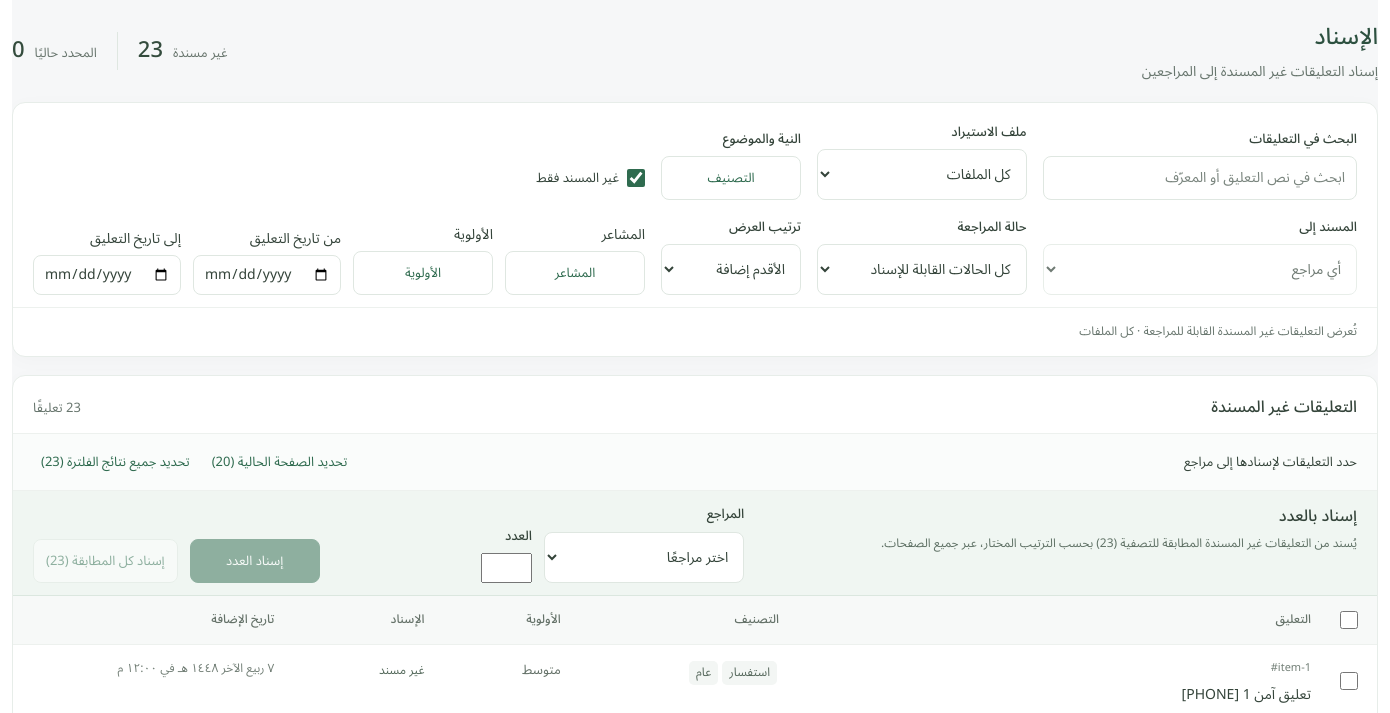
Test case: Admin Assignment workspace › rejects an invalid or too-large count before any request
Expected: the checkbox named "تحديد item-1" is shown, [1340,672,1358,690]
Select "مراجع اختبار — 5 قيد الإنجاز" in the dropdown named "المراجع للإسناد بالعدد": x=644, y=557 [544,532,744,583]
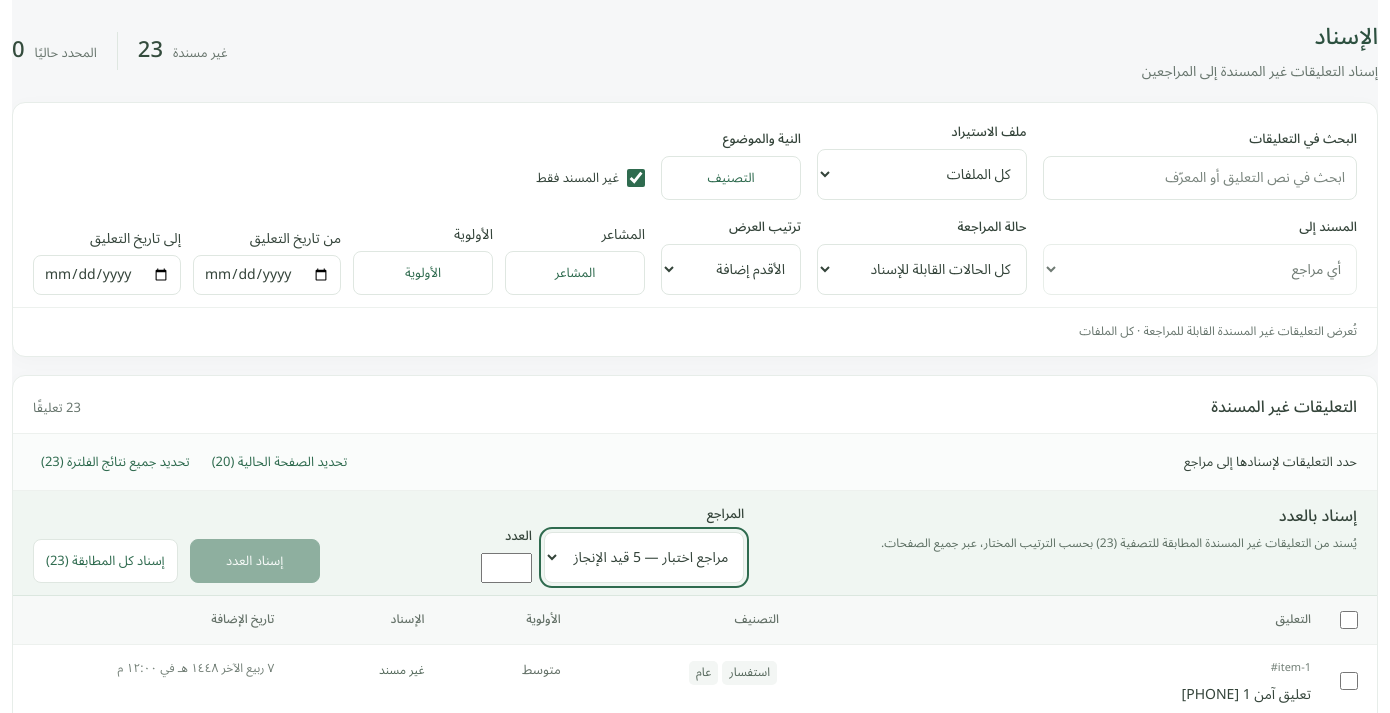
Expected: the button "إسناد العدد" is disabled, [190,539,320,583]
In the number field named "عدد التعليقات المطلوب إسنادها": x=506, y=568 [481,553,532,583], type "0"
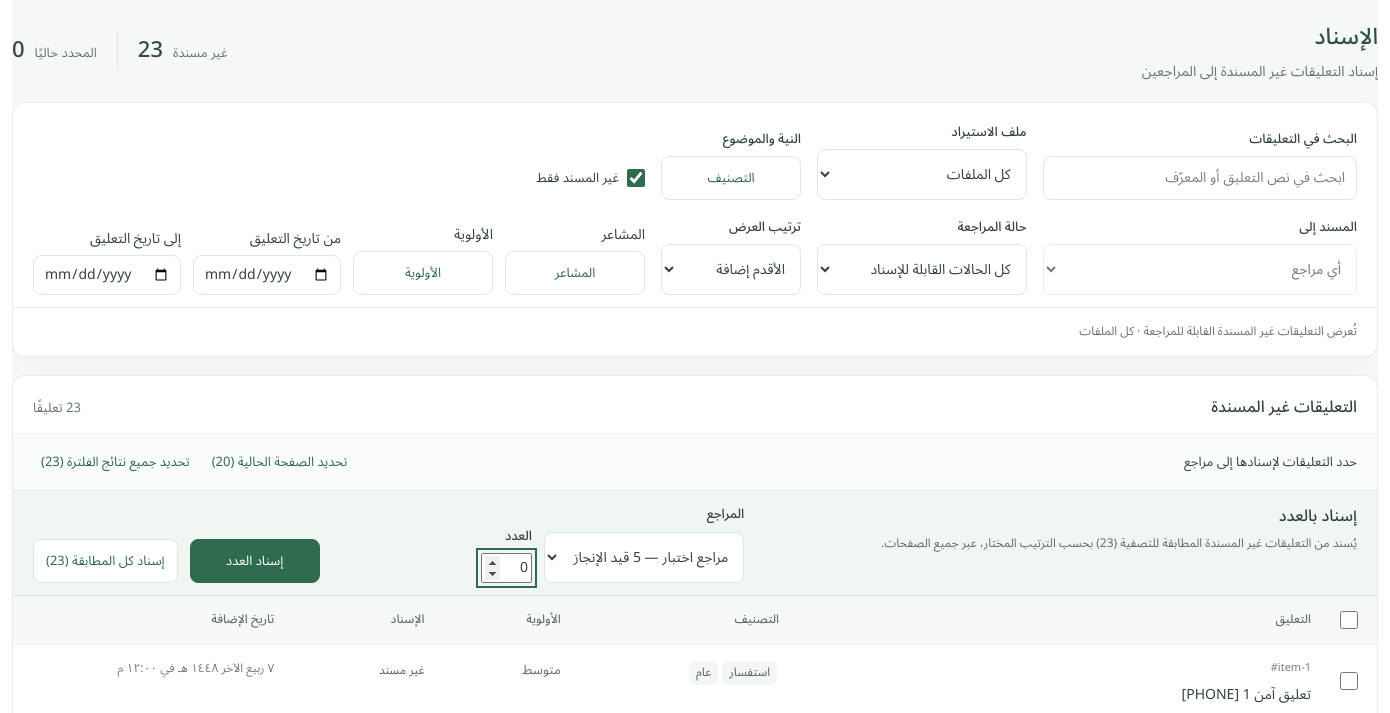
Click the button "إسناد العدد": x=255, y=561 [190,539,320,583]
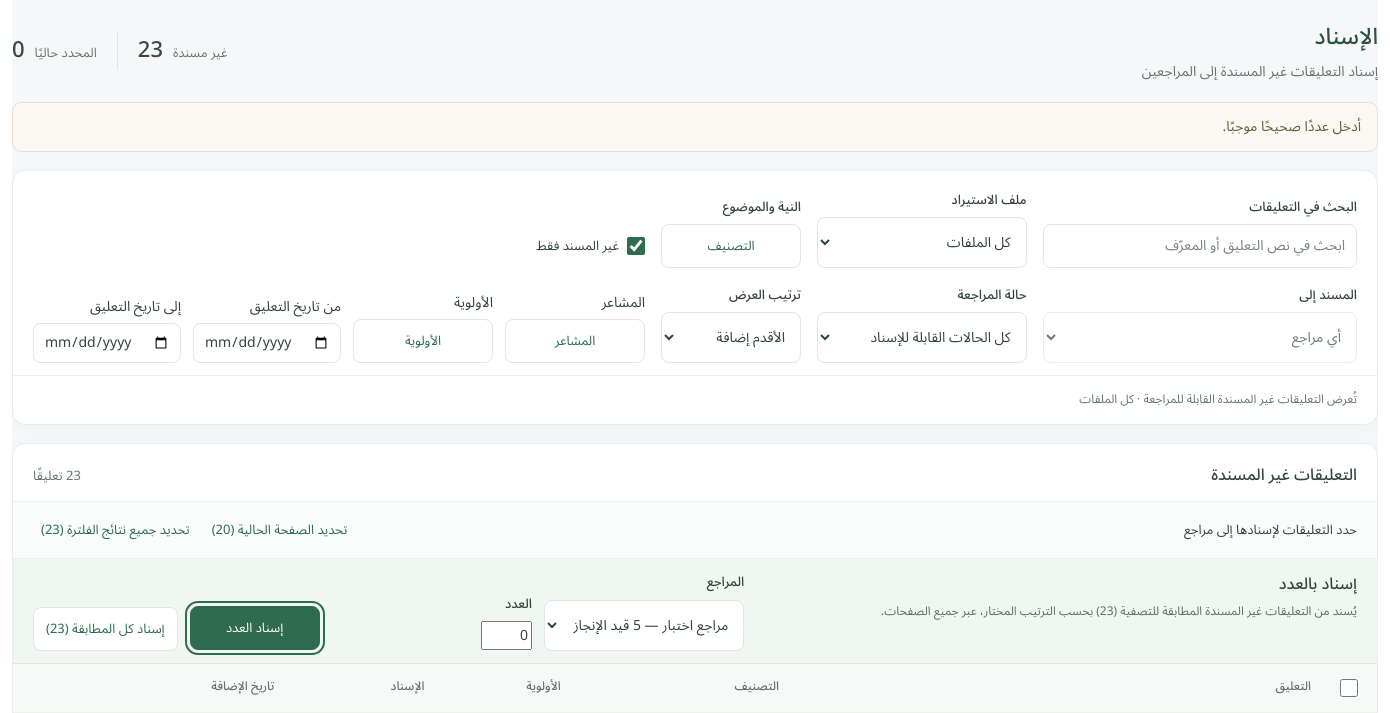
Now the text "أدخل عددًا صحيحًا موجبًا." is shown, box [12,102,1378,152]
Replace the text in the number field named "عدد التعليقات المطلوب إسنادها" with "24": x=506, y=636 [481,621,532,650]
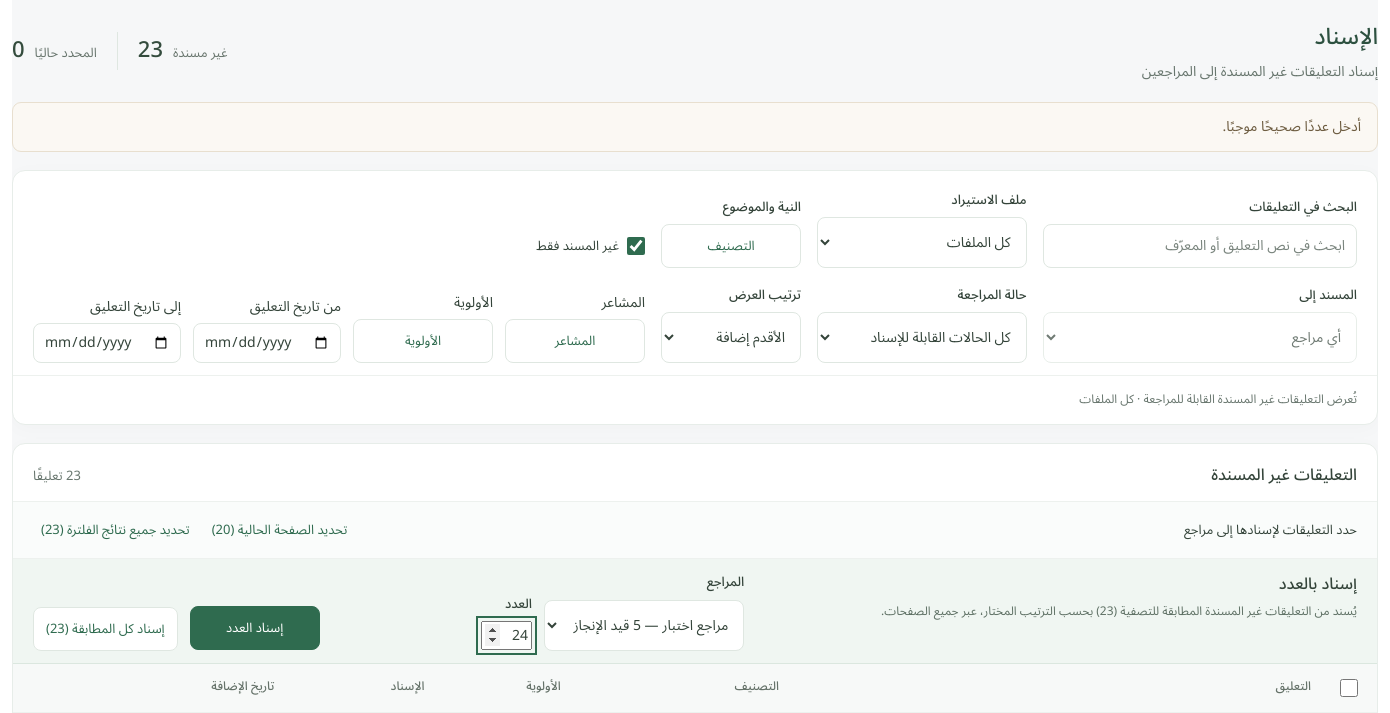
Click the button "إسناد العدد": x=255, y=628 [190,606,320,650]
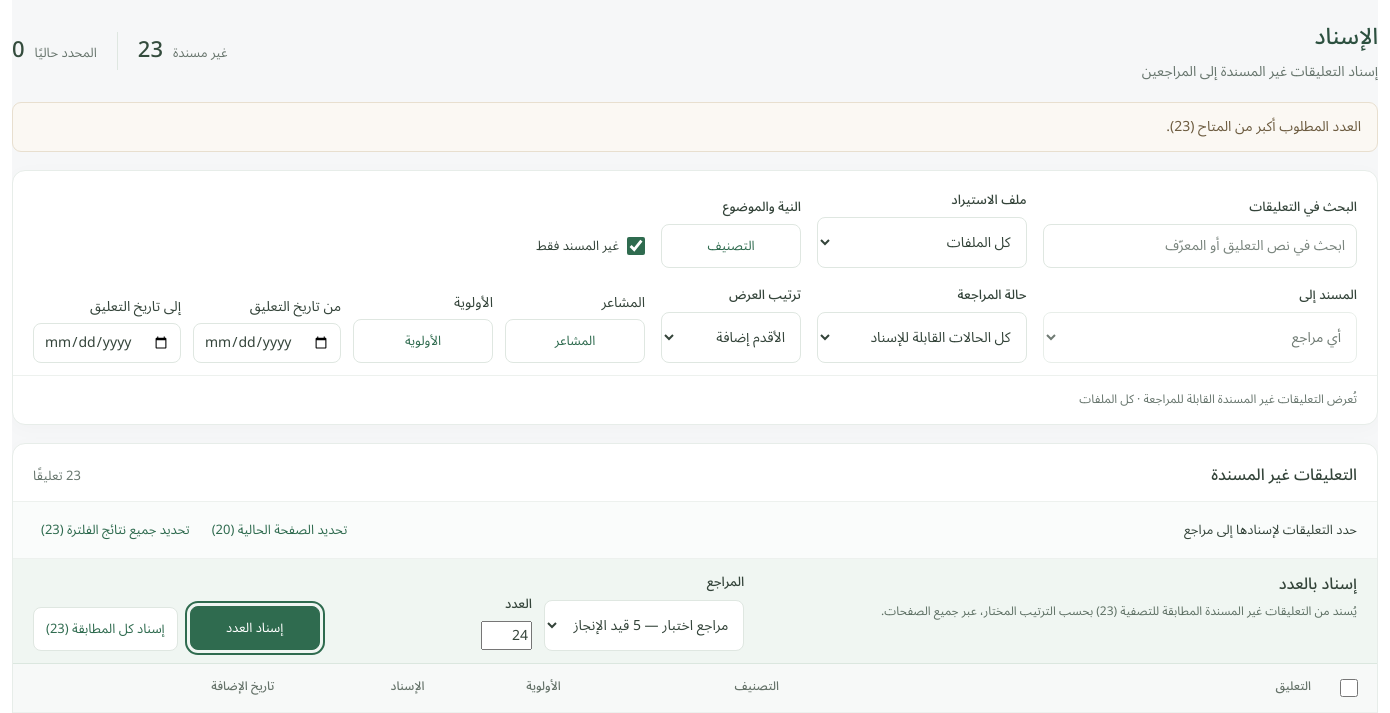
Now the text "العدد المطلوب أكبر من المتاح (23)." is shown, box [12,102,1378,152]
